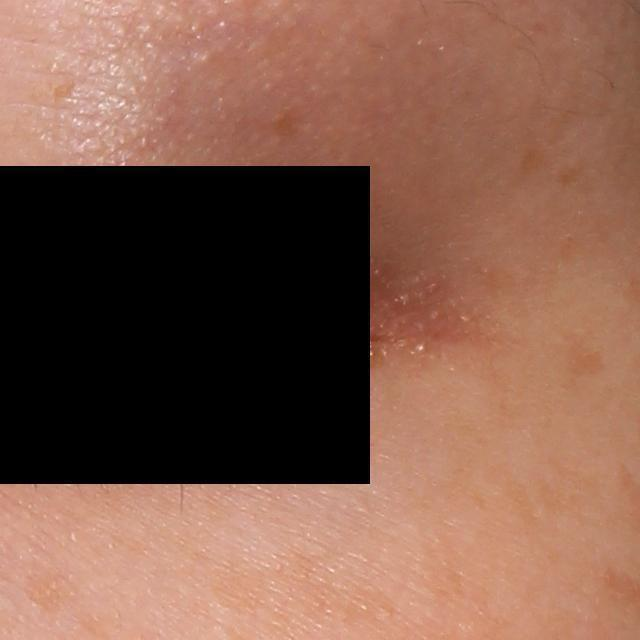melasma: (471, 455, 611, 543), (19, 567, 90, 626), (559, 328, 614, 387), (516, 145, 562, 183), (262, 106, 305, 142), (549, 165, 588, 189)
